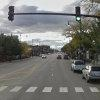Traffic light: (4, 2, 24, 30)
